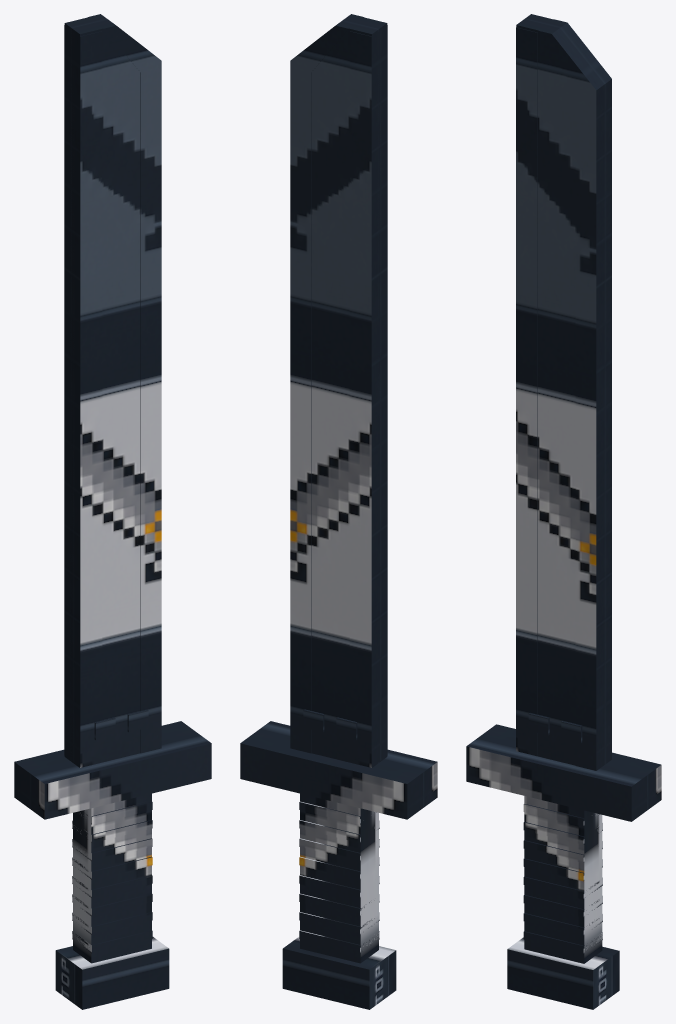
Rendered from tungsten_sabre.obj.
The picture shows the model from 3 angles, left to right: view 1: azimuth 30°, elevation 25°; view 2: azimuth 150°, elevation 25°; view 3: azimuth 330°, elevation 25°; orthographic projection.
Bounding box in the file's own units: 0.3602 × 2 × 0.1137.
